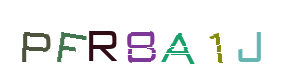1: (174, 0, 254, 80)
8: (103, 0, 183, 80)
A: (138, 0, 218, 80)
F: (62, 0, 142, 80)
J: (178, 0, 258, 80)
P: (13, 0, 93, 80)
R: (100, 0, 180, 80)
